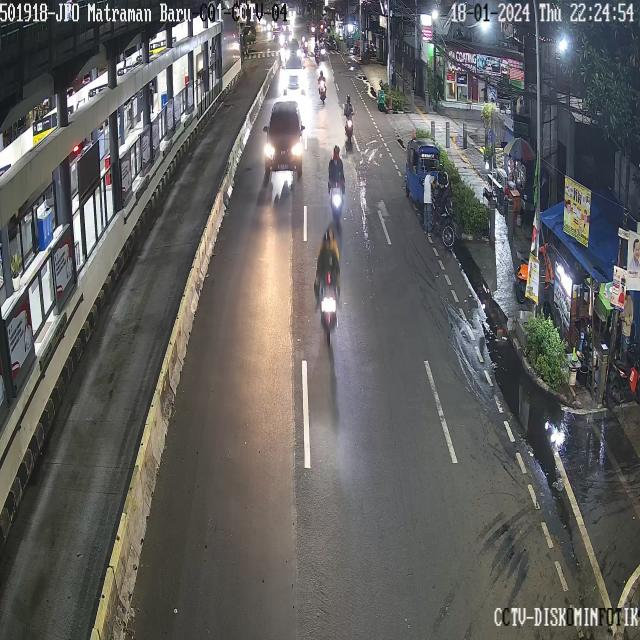Gerobak: (541, 252, 592, 332)
Payung: (499, 126, 539, 166)
